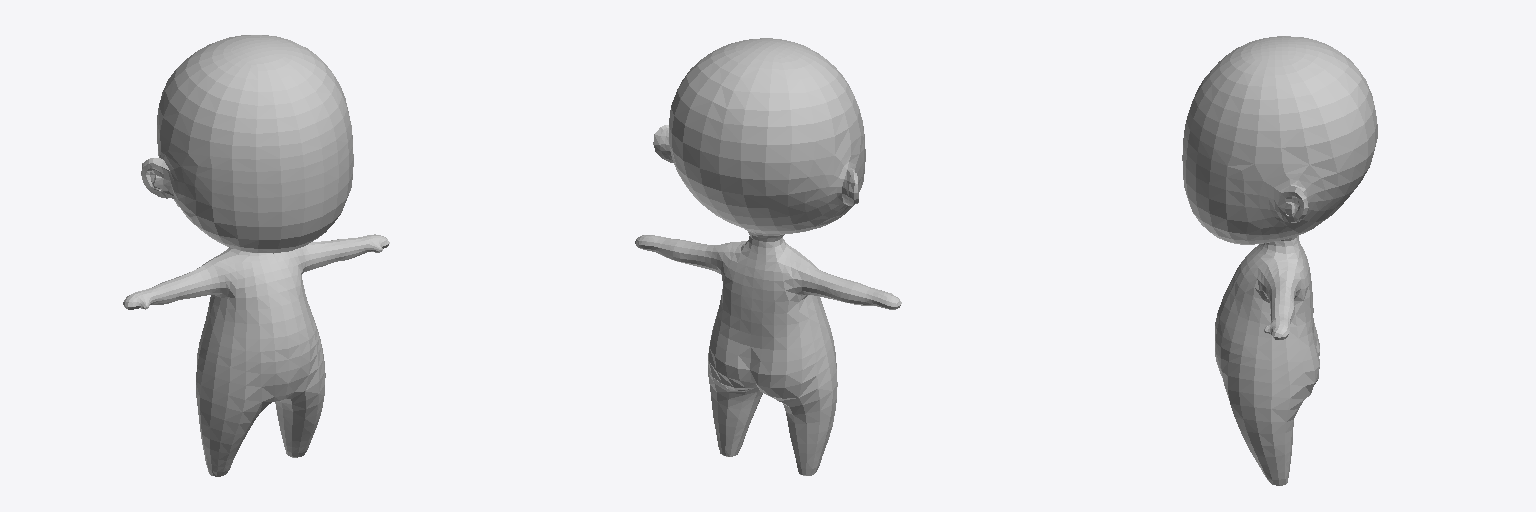
Rendered from body_low.obj.
3 renders of one model, left to right at view 1: azimuth 30°, elevation 25°; view 2: azimuth 150°, elevation 25°; view 3: azimuth 270°, elevation 25°, orthographic.
Parts seen in each view (by area): view 1: polySurface1; view 2: polySurface1; view 3: polySurface1.
Part boxes in pixels (x1,y1,x2,y2): polySurface1: (123, 35, 389, 476); polySurface1: (635, 38, 901, 475); polySurface1: (1182, 36, 1377, 485).
Bounding box in the file's own units: 56.4 × 85.25 × 36.1.